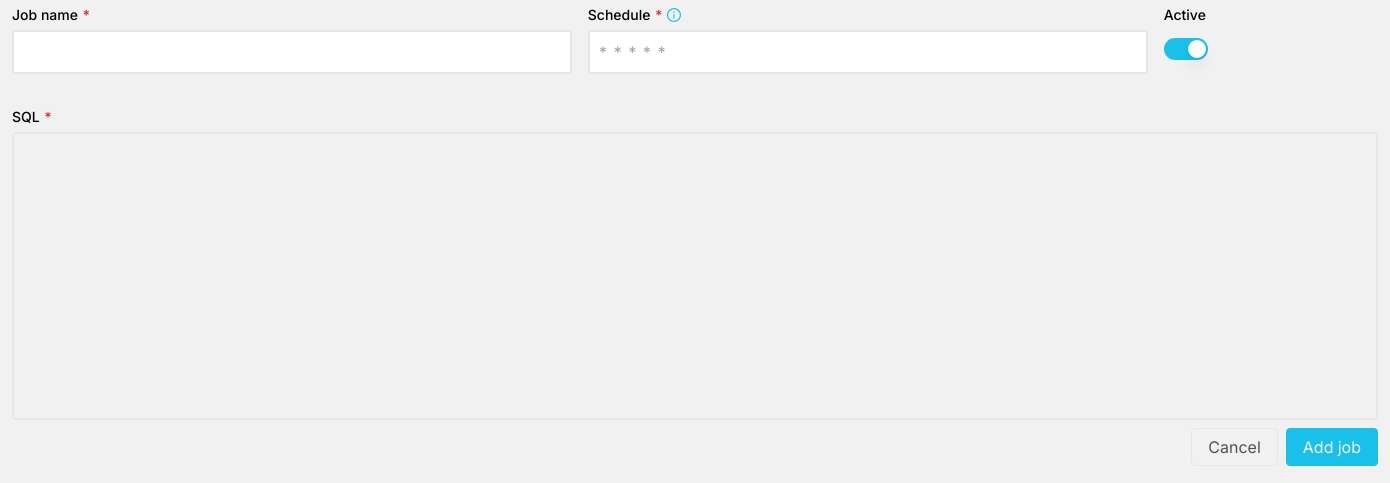
Test: The "JobForm" component › the "Job name" field › gives validation error if submitted empty
Click the button "Add job": (1332, 447) [1286,428,1378,466]
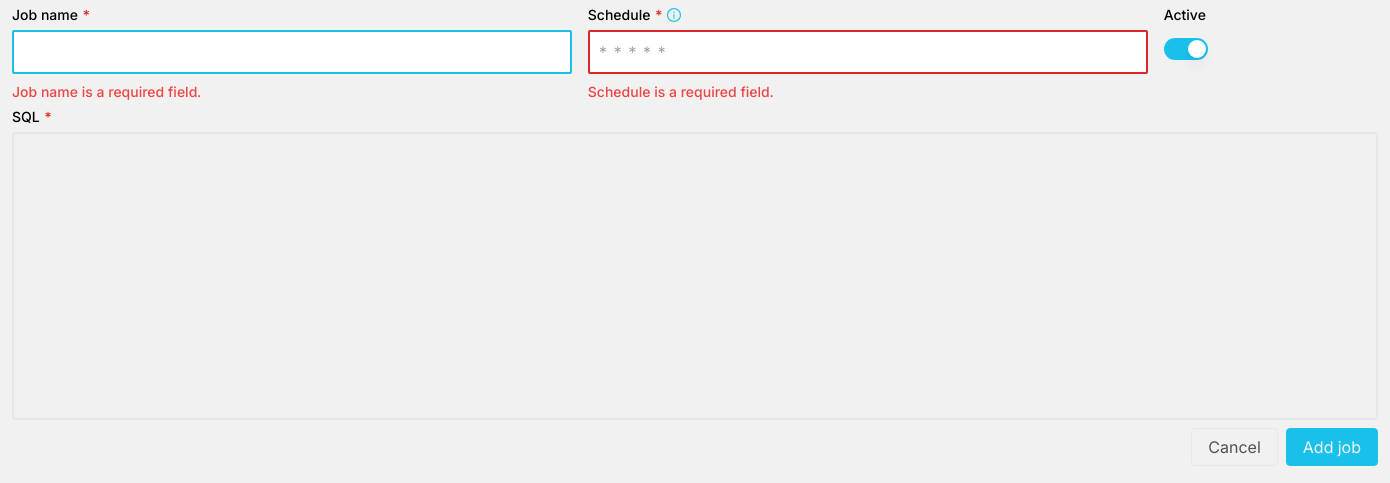
Expected: the text "Job name is a required field." is shown, [12,83,201,100]
